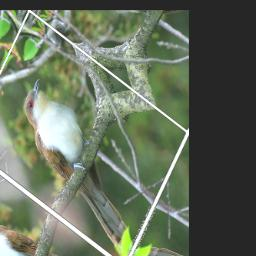Cuckoo: (0, 75, 165, 256)
